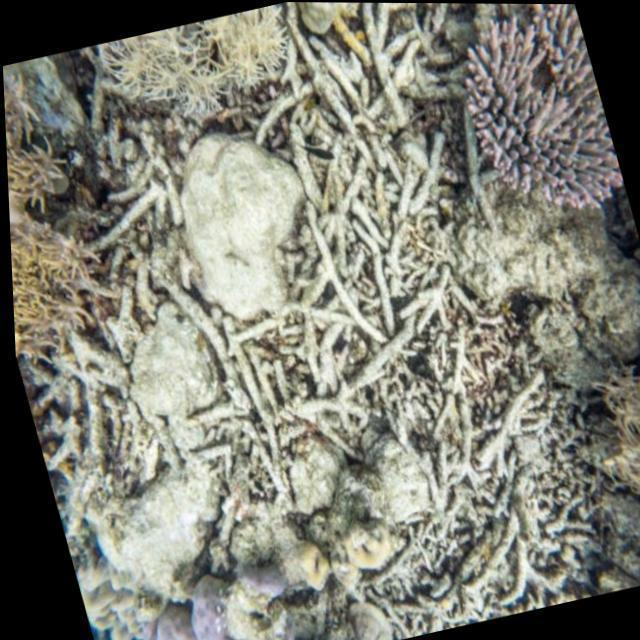Dead Coral: (32, 31, 613, 640)
